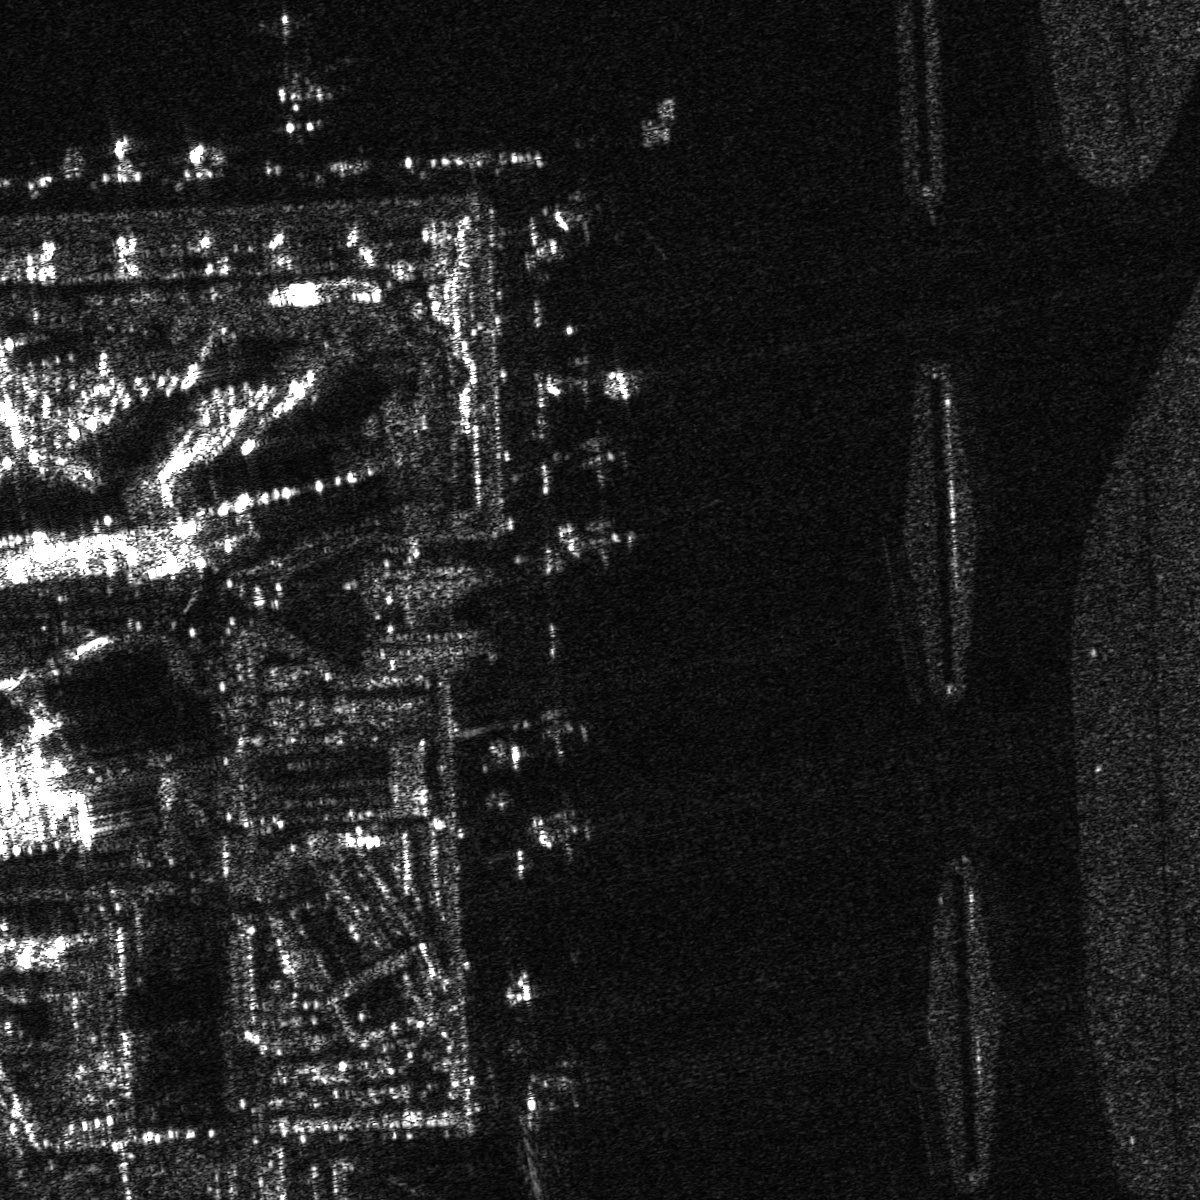A220: (547, 344, 645, 410), (559, 505, 648, 573), (521, 801, 605, 865), (526, 695, 600, 764), (524, 1046, 598, 1113), (562, 432, 638, 493), (543, 203, 595, 262)
Boeing787: (226, 5, 373, 146)
